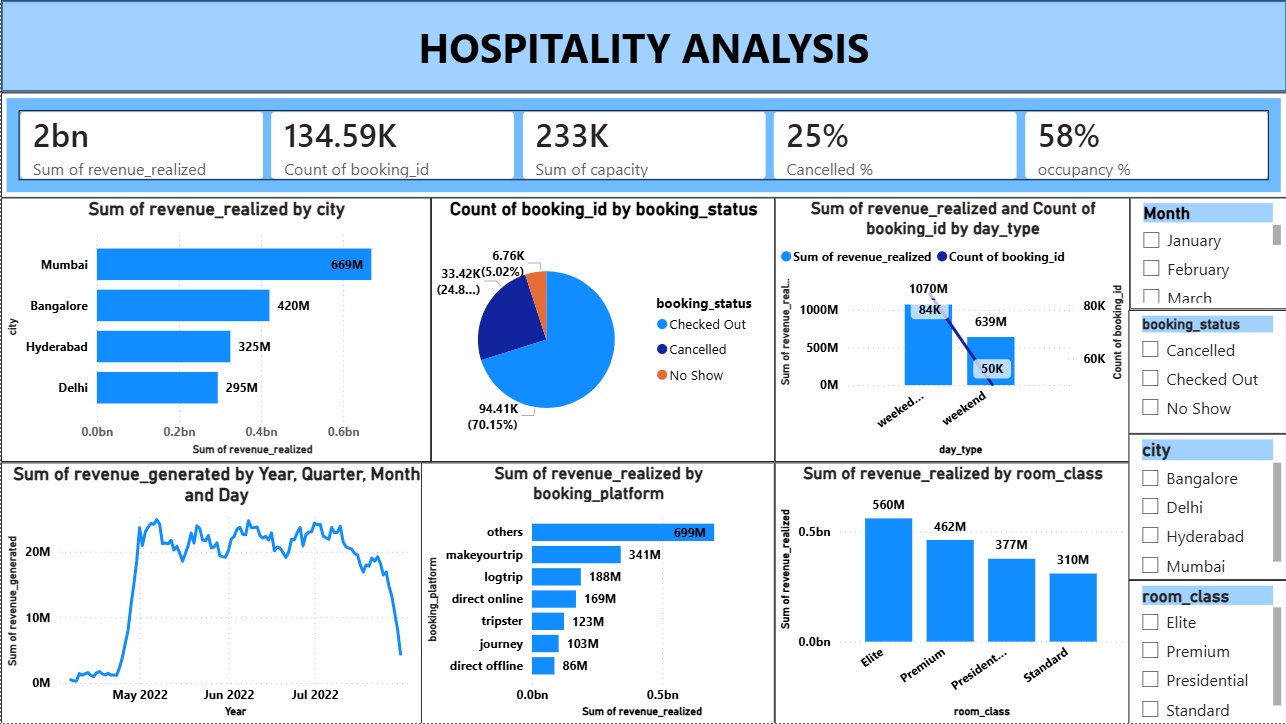

This screenshot's page, from the dashboard's own definition file:
{"tool":"tableau","page":{"name":"Dashboard 1","canvas":[1000,1000],"units":"permille","ordinal":0},"visuals":[{"type":"title","box":[5,10.7,990,84.5]},{"type":"image","box":[5,95.2,990,894.1]},{"type":"worksheet","title":"Revenue","mark":"Text","box":[112.8,96.5,134.7,124.7]},{"type":"worksheet","title":"capacity","mark":"Text","box":[372.4,96.5,131.2,123.3]},{"type":"worksheet","title":"Booking","mark":"Text","box":[249.1,97.9,123,123.3]},{"type":"worksheet","title":"Avg Rating","mark":"Text","box":[503.5,97.9,141.8,122]},{"type":"worksheet","title":"occupancy%","mark":"Automatic","box":[646,100.5,161.5,122]},{"type":"worksheet","title":"cancellation%","mark":"Text","box":[808.2,100.5,166.4,119.3]},{"type":"image","param":"Image/Picture1.png","box":[8.8,101.9,102.5,112.6]},{"type":"filter","title":"Booking_status","param":"[federated.0kp501o1j3tpmw1h6ecsv15nl3r8].[none:booking_status:nk]","box":[8.8,217.2,96.2,111.3]},{"type":"worksheet","title":"Booking_status","mark":"Pie","box":[105.4,219.8,220.2,288.2]},{"type":"worksheet","title":"Revenue by day_type","mark":"Bar","rows":["revenue_generated","booking_id"],"cols":["day_type"],"box":[762.9,219.8,224.6,288.2]},{"type":"worksheet","title":"Revenue by city","mark":"Automatic","rows":["revenue_realized"],"cols":["city"],"box":[326.9,221.2,219.6,286.9]},{"type":"worksheet","title":"Revenue by class","mark":"Automatic","rows":["room_class"],"cols":["revenue_realized"],"box":[547.7,222.5,214.6,285.5]},{"type":"filter","title":"Revenue by bookingplatform","param":"[federated.0kp501o1j3tpmw1h6ecsv15nl3r8].[none:booking_platform:nk]","box":[7.5,327.1,98.8,85.8]},{"type":"filter","title":"Revenue by city","param":"[federated.0kp501o1j3tpmw1h6ecsv15nl3r8].[none:city:nk]","box":[8.1,415.6,98.1,166.2]},{"type":"worksheet","title":"Revenue by bookingplatform","mark":"Circle","box":[779.8,505.4,210.3,473.2]},{"type":"worksheet","title":"weekly trend","mark":"Automatic","rows":["week no"],"box":[106.7,506.7,326.9,473.2]},{"type":"worksheet","title":"weekly Revenue","mark":"Line","rows":["revenue_generated","revenue_generated"],"cols":["week no"],"box":[433,510.7,345.5,465.2]},{"type":"filter","title":"Revenue by class","param":"[federated.0kp501o1j3tpmw1h6ecsv15nl3r8].[none:room_class:nk]","box":[7.5,580.4,96.9,234.6]},{"type":"filter","title":"Revenue by day_type","param":"[federated.0kp501o1j3tpmw1h6ecsv15nl3r8].[none:day_type:nk]","box":[8.1,816.4,95.6,162.2]}]}

Visuals, with their boxes on the dashboard's canvas, which has no fixed pixel size, in thousandths of its width and height (x1, y1, x2, y2). These are canvas units, not pixel positions in the 1286x724 screenshot, which may show the page scaled, cropped or inside an application window:
title: [left=5, top=11, right=995, bottom=95]
image: [left=5, top=95, right=995, bottom=989]
"Revenue" worksheet (Text marks): [left=113, top=96, right=248, bottom=221]
"capacity" worksheet (Text marks): [left=372, top=96, right=504, bottom=220]
"Booking" worksheet (Text marks): [left=249, top=98, right=372, bottom=221]
"Avg Rating" worksheet (Text marks): [left=504, top=98, right=645, bottom=220]
"occupancy%" worksheet: [left=646, top=100, right=808, bottom=222]
"cancellation%" worksheet (Text marks): [left=808, top=100, right=975, bottom=220]
image: [left=9, top=102, right=111, bottom=214]
"Booking_status" filter: [left=9, top=217, right=105, bottom=328]
"Booking_status" worksheet (Pie marks): [left=105, top=220, right=326, bottom=508]
"Revenue by day_type" worksheet (Bar marks): [left=763, top=220, right=988, bottom=508]
"Revenue by city" worksheet: [left=327, top=221, right=546, bottom=508]
"Revenue by class" worksheet: [left=548, top=222, right=762, bottom=508]
"Revenue by bookingplatform" filter: [left=8, top=327, right=106, bottom=413]
"Revenue by city" filter: [left=8, top=416, right=106, bottom=582]
"Revenue by bookingplatform" worksheet (Circle marks): [left=780, top=505, right=990, bottom=979]
"weekly trend" worksheet: [left=107, top=507, right=434, bottom=980]
"weekly Revenue" worksheet (Line marks): [left=433, top=511, right=778, bottom=976]
"Revenue by class" filter: [left=8, top=580, right=104, bottom=815]
"Revenue by day_type" filter: [left=8, top=816, right=104, bottom=979]
